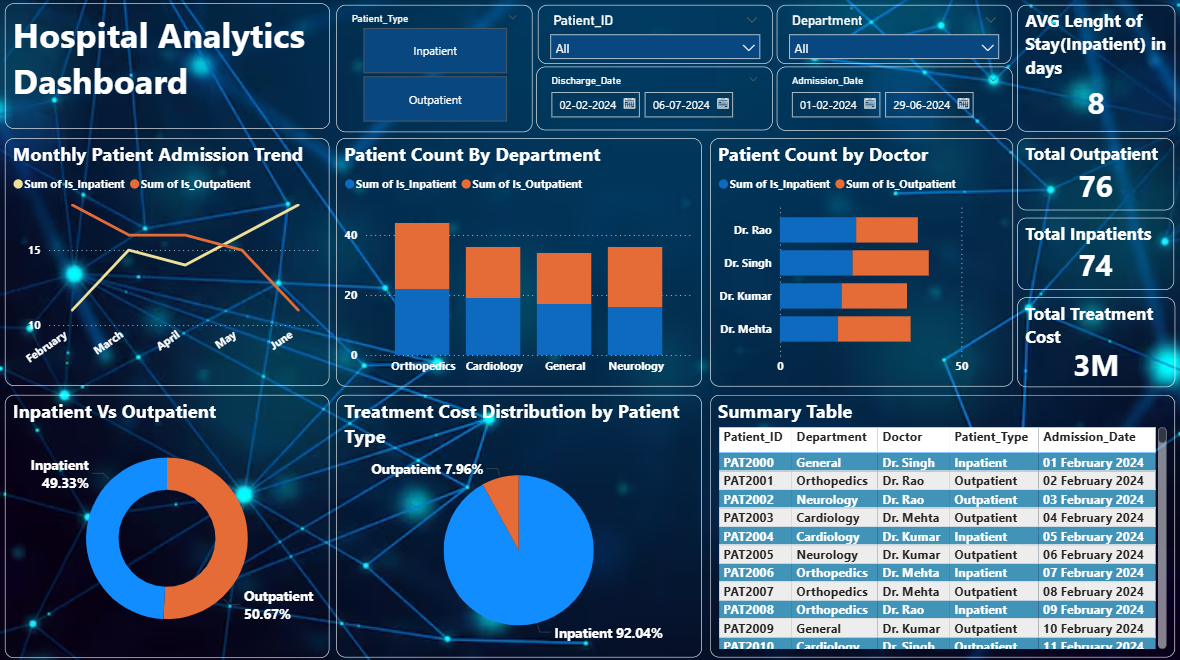

The dashboard page shown, as its layout file describes it:
{"tool":"powerbi","page":{"name":"Page 1","canvas":[1280,720],"ordinal":0},"visuals":[{"type":"columnChart","title":"Patient Count By Department","fields":{"Category":["Hospital_Patient_Analytics_Updated.Department"],"Y":["Hospital_Patient_Analytics_Updated.Is_Inpatient","Hospital_Patient_Analytics_Updated.Is_Outpatient"]},"box":[364.4,150,395.6,268.9],"z":0},{"type":"lineChart","title":"Monthly Patient Admission Trend","fields":{"Category":["Hospital_Patient_Analytics_Updated.Admission_Date.Variation.Date Hierarchy.Month"],"Y":["Hospital_Patient_Analytics_Updated.Is_Inpatient","Hospital_Patient_Analytics_Updated.Is_Outpatient"]},"box":[5.7,150,351.4,268.6],"z":1},{"type":"donutChart","title":"Inpatient Vs Outpatient","fields":{"Y":["Hospital_Patient_Analytics_Updated.Patient_Type"],"Category":["Hospital_Patient_Analytics_Updated.Patient_Type"]},"box":[5,426.7,351.7,285],"z":2},{"type":"barChart","title":"Patient Count by Doctor","fields":{"Category":["Hospital_Patient_Analytics_Updated.Doctor"],"Y":["Hospital_Patient_Analytics_Updated.Is_Inpatient","Hospital_Patient_Analytics_Updated.Is_Outpatient"]},"box":[768.9,150,327.8,268.9],"z":3},{"type":"tableEx","title":"Summary Table","fields":{"Values":["Hospital_Patient_Analytics_Updated.Patient_ID","Hospital_Patient_Analytics_Updated.Department","Hospital_Patient_Analytics_Updated.Doctor","Hospital_Patient_Analytics_Updated.Patient_Type","Hospital_Patient_Analytics_Updated.Admission_Date"]},"box":[768.9,427.8,503.3,284.4],"z":4},{"type":"pieChart","title":"Treatment Cost Distribution by Patient Type","fields":{"Category":["Hospital_Patient_Analytics_Updated.Patient_Type"],"Y":["Hospital_Patient_Analytics_Updated.Treatment_Cost"]},"box":[364.4,427.8,395.6,284.4],"z":5},{"type":"card","title":"Total Outpatient","fields":{"Values":["Hospital_Patient_Analytics_Updated.Is_Outpatient"]},"box":[1101.7,150,170,78.3],"z":6},{"type":"card","title":"Total Inpatients","fields":{"Values":["Hospital_Patient_Analytics_Updated.Is_Inpatient"]},"box":[1101.7,235.6,170,78.3],"z":7},{"type":"card","title":"Total Treatment Cost","fields":{"Values":["Hospital_Patient_Analytics_Updated.Treatment_Cost"]},"box":[1101.7,321.1,171.1,97.2],"z":8},{"type":"card","title":"AVG Lenght of Stay(Inpatient) in days","fields":{"Values":["Hospital_Patient_Analytics_Updated.Avg Length of Stay (Inpatient)"]},"box":[1101.7,4.4,171.1,137.2],"z":9},{"type":"slicer","fields":{"Values":["Hospital_Patient_Analytics_Updated.Admission_Date"]},"box":[841.9,72.5,255.6,69.4],"z":10},{"type":"slicer","fields":{"Values":["Hospital_Patient_Analytics_Updated.Department"]},"box":[841.7,4.4,254.4,63.9],"z":11},{"type":"slicer","fields":{"Values":["Hospital_Patient_Analytics_Updated.Discharge_Date"]},"box":[581.1,72.8,256.1,68.9],"z":12},{"type":"slicer","fields":{"Values":["Hospital_Patient_Analytics_Updated.Patient_ID"]},"box":[582.8,4.4,254.4,63.9],"z":13},{"type":"slicer","fields":{"Values":["Hospital_Patient_Analytics_Updated.Patient_Type"]},"box":[364.4,4.4,212.2,137.8],"z":14},{"type":"textbox","box":[6,4,352,136],"z":15}]}

Visuals, with their boxes in screenshot pixels (x1, y1, x2, y2), scaled from the page's 1280x720 canvas onto the 1180x660 screenshot:
"Patient Count By Department" columnChart: 336 138 701 384
"Monthly Patient Admission Trend" lineChart: 5 138 329 384
"Inpatient Vs Outpatient" donutChart: 5 391 329 652
"Patient Count by Doctor" barChart: 709 138 1011 384
"Summary Table" tableEx: 709 392 1173 653
"Treatment Cost Distribution by Patient Type" pieChart: 336 392 701 653
"Total Outpatient" card: 1016 138 1172 209
"Total Inpatients" card: 1016 216 1172 288
"Total Treatment Cost" card: 1016 294 1173 383
"AVG Lenght of Stay(Inpatient) in days" card: 1016 4 1173 130
slicer - Hospital_Patient_Analytics_Updated.Admission_Date: 776 66 1012 130
slicer - Hospital_Patient_Analytics_Updated.Department: 776 4 1010 63
slicer - Hospital_Patient_Analytics_Updated.Discharge_Date: 536 67 772 130
slicer - Hospital_Patient_Analytics_Updated.Patient_ID: 537 4 772 63
slicer - Hospital_Patient_Analytics_Updated.Patient_Type: 336 4 532 130
textbox: 6 4 330 128
